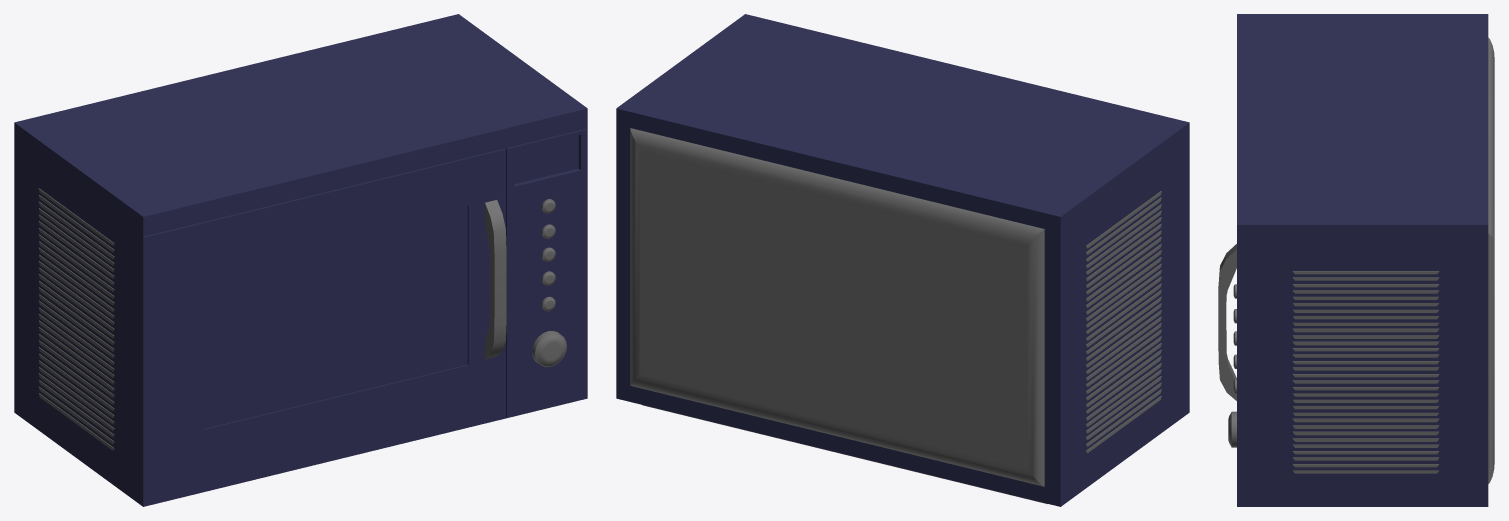
Rendered from microwave.glb.
3 renders of one model, left to right at view 1: azimuth 30°, elevation 25°; view 2: azimuth 150°, elevation 25°; view 3: azimuth 270°, elevation 25°, orthographic. The views are drawn at different scales.
Visible parts, largest first — view 1: pasted__pCube7, pasted__pCube43, pasted__pCube9, pasted__pCylinder9; view 2: pasted__pCube7, pasted__pCube44, pasted__pCube43; view 3: pasted__pCube7, pasted__pCube42, pasted__pCube44, pasted__pCube9.
Part boxes in pixels (left/top/right/bottom): pasted__pCube7: left=14, top=14, right=587, bottom=506; pasted__pCube43: left=38, top=188, right=114, bottom=450; pasted__pCube9: left=485, top=200, right=506, bottom=359; pasted__pCylinder9: left=532, top=331, right=566, bottom=367; pasted__pCube7: left=616, top=14, right=1189, bottom=506; pasted__pCube44: left=630, top=128, right=1044, bottom=486; pasted__pCube43: left=1086, top=191, right=1161, bottom=453; pasted__pCube7: left=1237, top=14, right=1488, bottom=506; pasted__pCube42: left=1293, top=271, right=1439, bottom=473; pasted__pCube44: left=1488, top=37, right=1494, bottom=483; pasted__pCube9: left=1218, top=244, right=1236, bottom=400.
Size of the model in its own units: 2.16 by 1.39 by 1.19.
